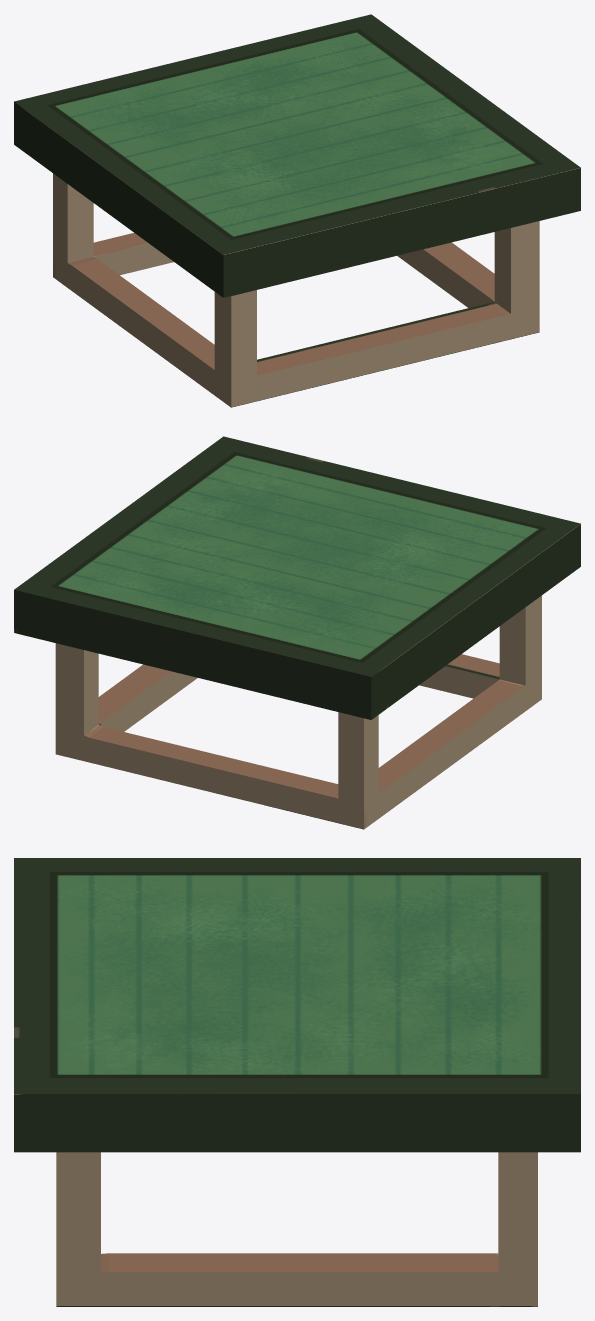
Rendered from MFC platform.fbx.
3 views of the same model, one above another, from view 1: azimuth 30°, elevation 25°; view 2: azimuth 150°, elevation 25°; view 3: azimuth 270°, elevation 25° (orthographic). The views are drawn at different scales.
Visible parts, largest first — view 1: Cube; view 2: Cube; view 3: Cube.
Boxes of the visible parts, x1,y1,x2,y2 form: Cube: [14, 14, 580, 407]; Cube: [14, 436, 580, 829]; Cube: [14, 858, 580, 1306].
Size of the model in its own units: 448 by 203 by 455.
